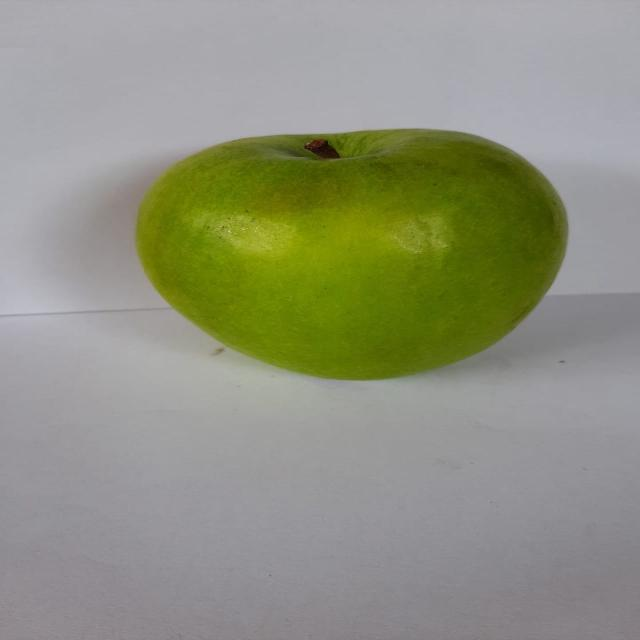50-_ripeness: (118, 107, 579, 398)
